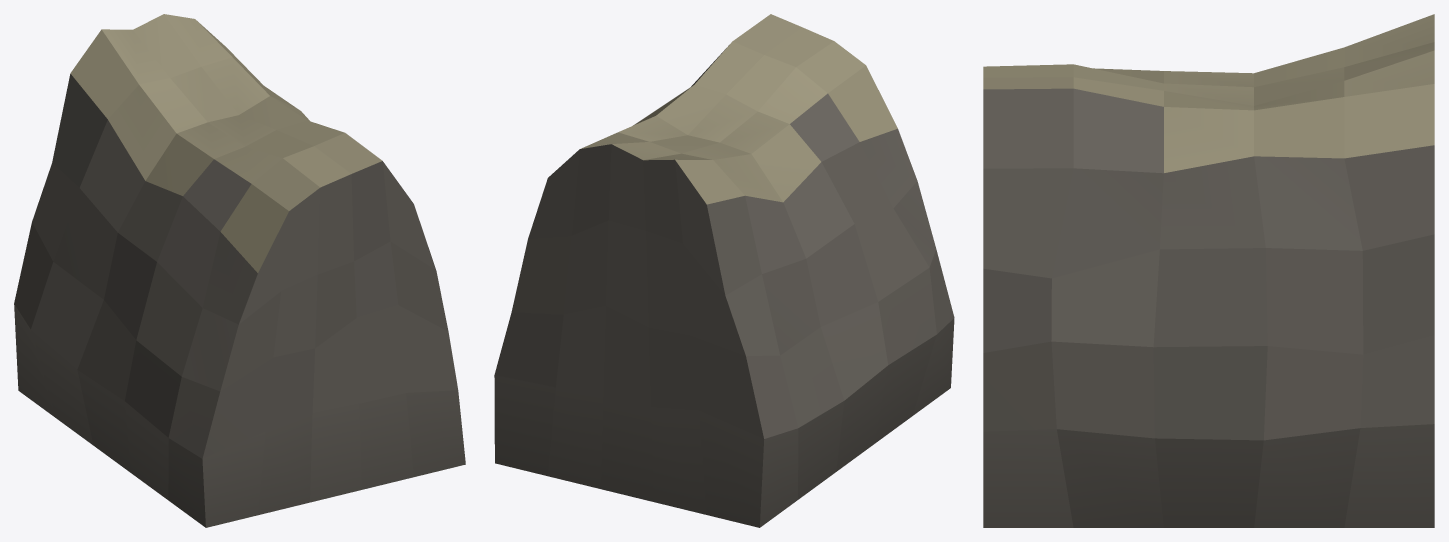
The model's file is roca_recta.glb.
3 views of the same model, side by side, from view 1: azimuth 30°, elevation 25°; view 2: azimuth 150°, elevation 25°; view 3: azimuth 270°, elevation 25° (orthographic). The views are drawn at different scales.
Visible parts, largest first — view 1: propforge-cuartos-roca_recta; view 2: propforge-cuartos-roca_recta; view 3: propforge-cuartos-roca_recta.
Part boxes in pixels (left/top/right/bottom): propforge-cuartos-roca_recta: left=14, top=14, right=465, bottom=527; propforge-cuartos-roca_recta: left=494, top=14, right=954, bottom=527; propforge-cuartos-roca_recta: left=983, top=14, right=1434, bottom=527.
Bounding box in the file's own units: 0.8763 × 1 × 1.
